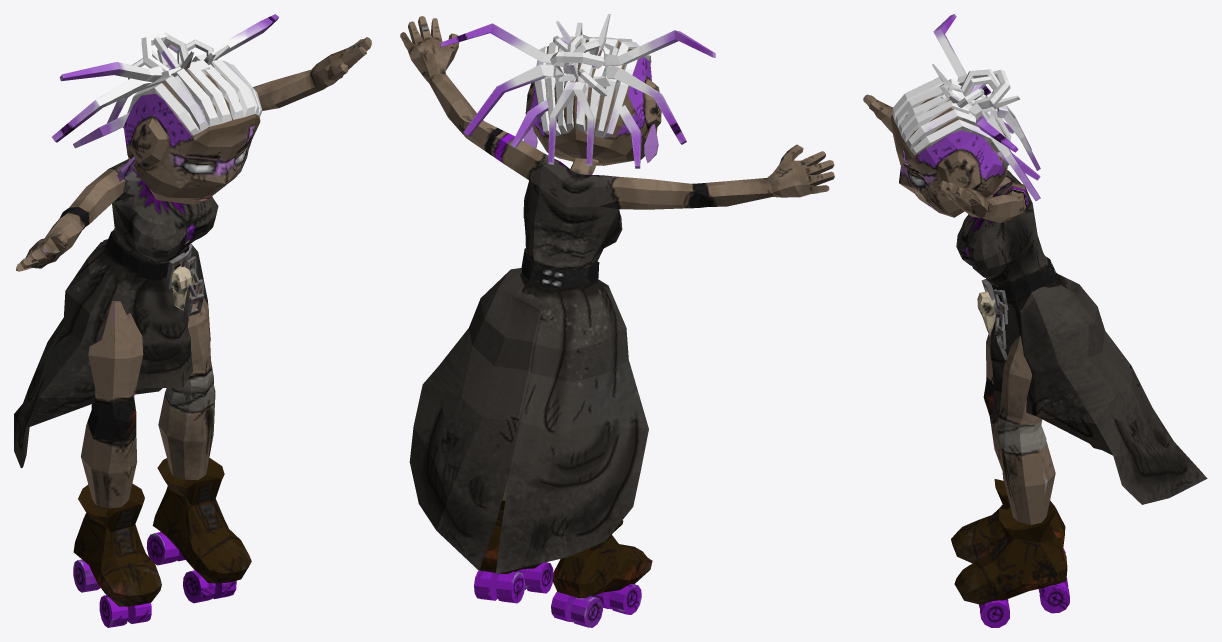
File: bruja_000136.obj
3 views of the same model, side by side, from view 1: azimuth 30°, elevation 25°; view 2: azimuth 150°, elevation 25°; view 3: azimuth 270°, elevation 25° (orthographic). The views are drawn at different scales.
Visible parts, largest first — view 1: Bruja_Plane.001; view 2: Bruja_Plane.001; view 3: Bruja_Plane.001.
Part boxes in pixels (x1,y1,x2,y2): Bruja_Plane.001: (14,14,371,627); Bruja_Plane.001: (400,14,834,627); Bruja_Plane.001: (863,14,1207,627).
Bounding box in the file's own units: 11.45 × 16.26 × 9.45.
